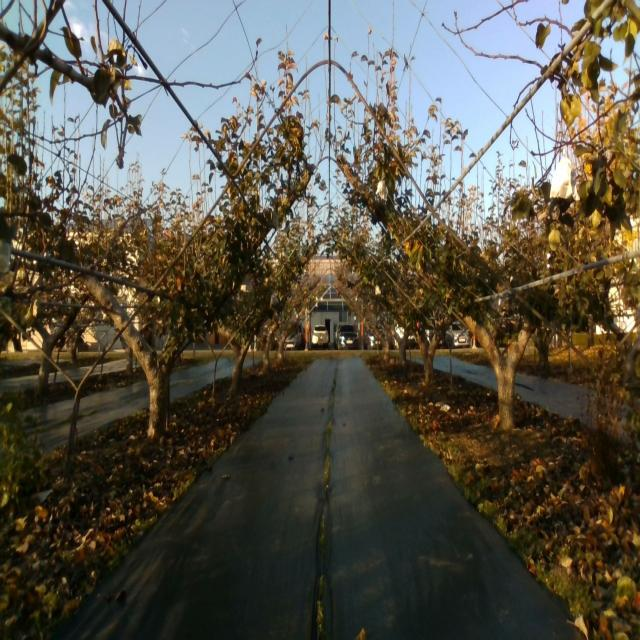pearbags: (550, 146, 580, 202), (376, 180, 388, 202)
